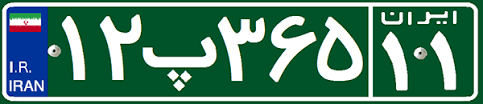character: (143, 9, 218, 94), (315, 8, 367, 94), (216, 9, 268, 93), (265, 8, 318, 89), (94, 10, 143, 90), (53, 12, 94, 89), (377, 28, 416, 94), (425, 27, 462, 95)
